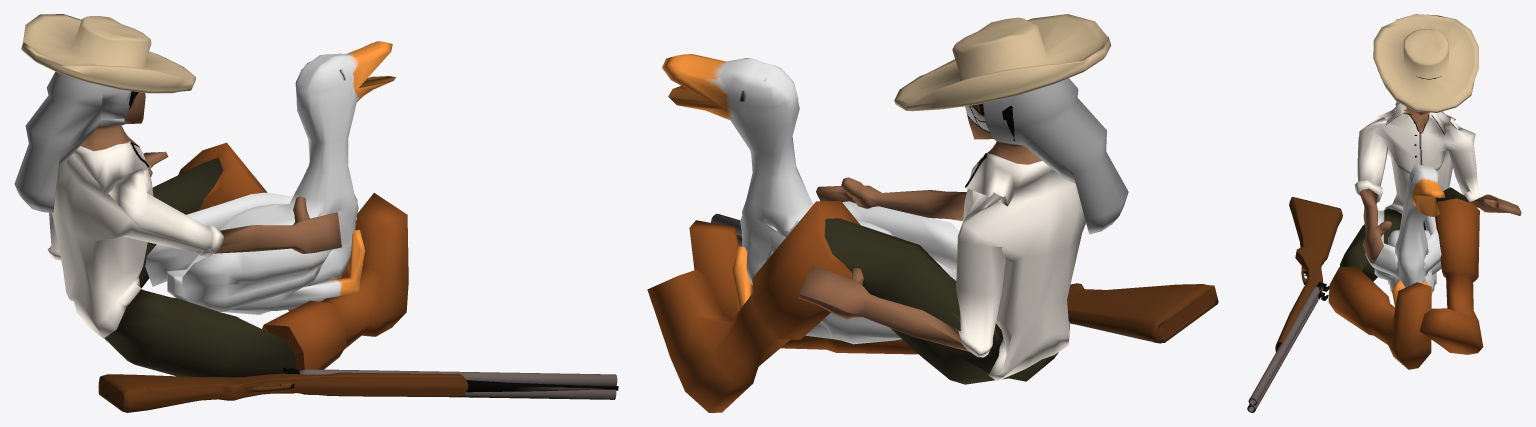
The model's file is bowmari_2.obj.
3 renders of one model, left to right at view 1: azimuth 30°, elevation 25°; view 2: azimuth 150°, elevation 25°; view 3: azimuth 270°, elevation 25°, orthographic. The views are drawn at different scales.
Visible parts, largest first — view 1: Default_Body_Cube, Cube.005, SHOTGUN_Cube.007, Hat_Cylinder, Hair_Cube.004; view 2: Default_Body_Cube, Cube.005, Hat_Cylinder, Hair_Cube.004, SHOTGUN_Cube.007; view 3: Default_Body_Cube, Hat_Cylinder, Cube.005, SHOTGUN_Cube.007.
Part boxes in pixels (x1,y1,x2,y2): Default_Body_Cube: [48, 91, 408, 393]; Cube.005: [145, 41, 395, 314]; SHOTGUN_Cube.007: [98, 367, 618, 412]; Hat_Cylinder: [21, 14, 196, 93]; Hair_Cube.004: [14, 71, 131, 212]; Default_Body_Cube: [647, 103, 1085, 412]; Cube.005: [662, 54, 959, 344]; Hat_Cylinder: [894, 14, 1111, 111]; Hair_Cube.004: [983, 78, 1128, 234]; SHOTGUN_Cube.007: [711, 214, 1218, 343]; Default_Body_Cube: [1328, 79, 1521, 369]; Hat_Cylinder: [1373, 14, 1478, 112]; Cube.005: [1365, 164, 1445, 307]; SHOTGUN_Cube.007: [1247, 197, 1342, 412].
Bounding box in the file's own units: 6.91 × 5.21 × 5.11.
